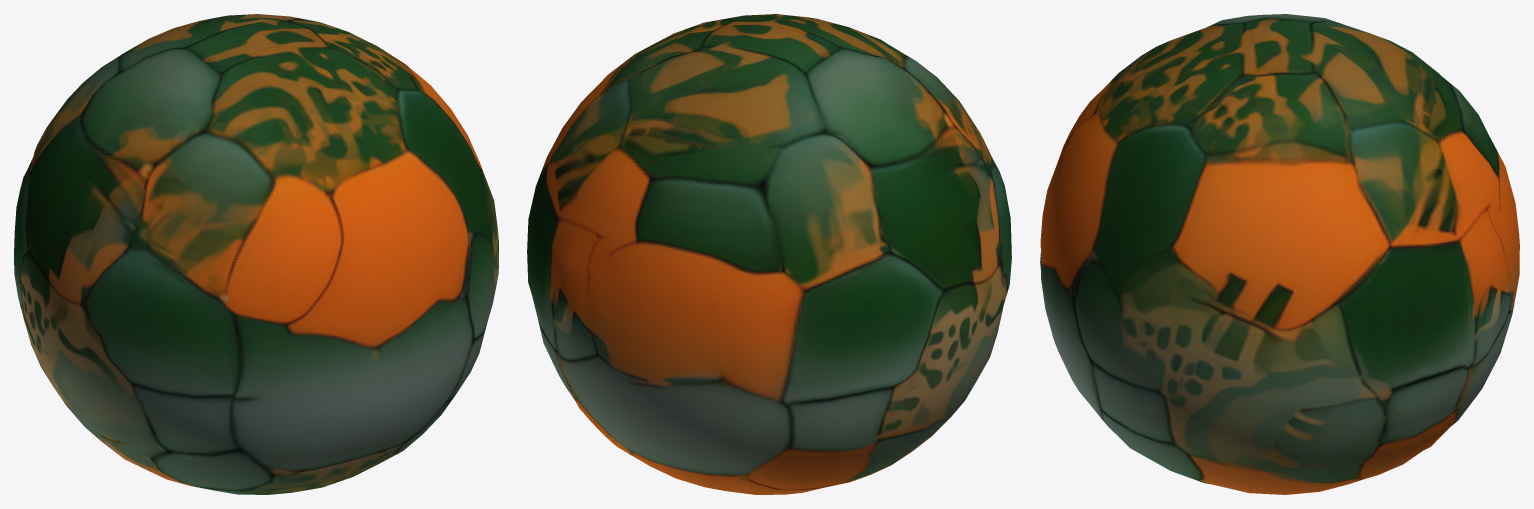
The model's file is 02-6493403-Camouflage-Soccer-Ball-model-pack.glb.
3 views of the same model, side by side, from view 1: azimuth 30°, elevation 25°; view 2: azimuth 150°, elevation 25°; view 3: azimuth 270°, elevation 25° (orthographic).
Parts seen in each view (by area): view 1: Retopo_neural_node_637e57d5-c699-4cf2-8cf2-9bd27205adfb; view 2: Retopo_neural_node_637e57d5-c699-4cf2-8cf2-9bd27205adfb; view 3: Retopo_neural_node_637e57d5-c699-4cf2-8cf2-9bd27205adfb.
Boxes of the visible parts, left/top/right/bottom form: Retopo_neural_node_637e57d5-c699-4cf2-8cf2-9bd27205adfb: left=14, top=14, right=498, bottom=494; Retopo_neural_node_637e57d5-c699-4cf2-8cf2-9bd27205adfb: left=527, top=14, right=1011, bottom=494; Retopo_neural_node_637e57d5-c699-4cf2-8cf2-9bd27205adfb: left=1040, top=14, right=1519, bottom=494.
Bounding box in the file's own units: 0.9479 × 0.947 × 0.9469.
Materials: 1 (1 with a texture image).
